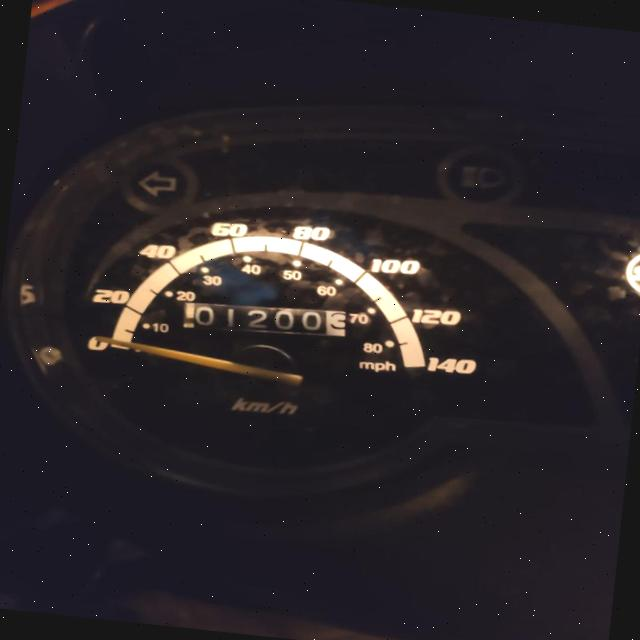odometer: (179, 292, 348, 344)
